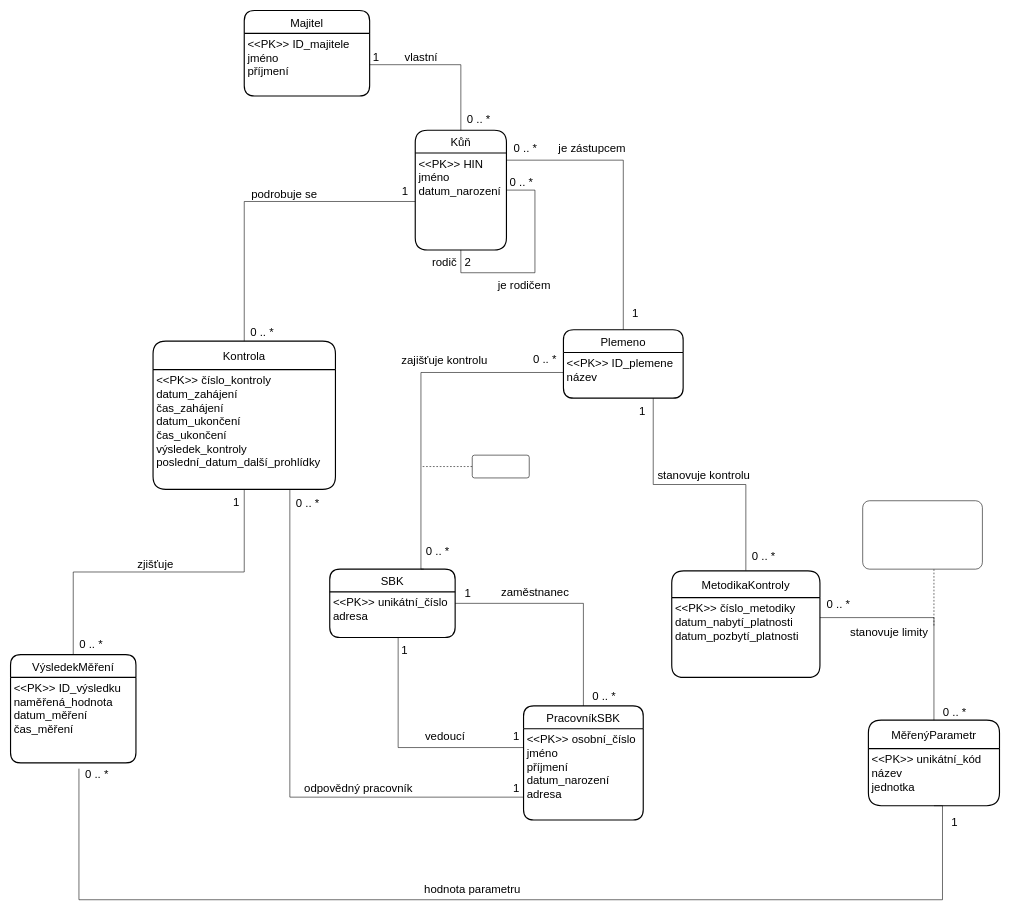
This 1009x910 diagram has some shape labels left out. The centre of each missing label's shape, as x and y in pixels:
cena: the point at 500,466
dolní_limit_prošel horní_limit_prošel dolní_limit_opakovat hormí_limit_opakovat: the point at 922,534
